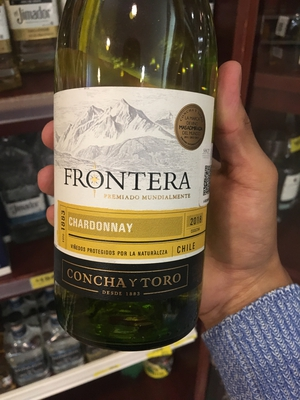frontera chardonnay: (53, 20, 224, 332)
